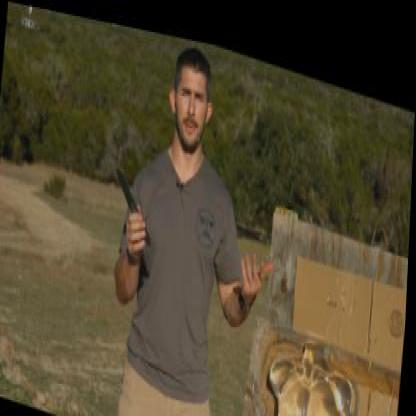knife: (106, 153, 152, 247)
